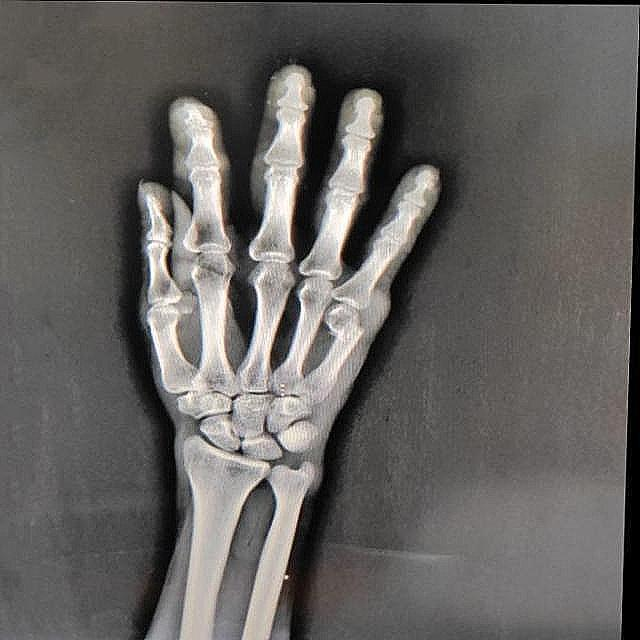bone: (318, 318, 373, 366)
